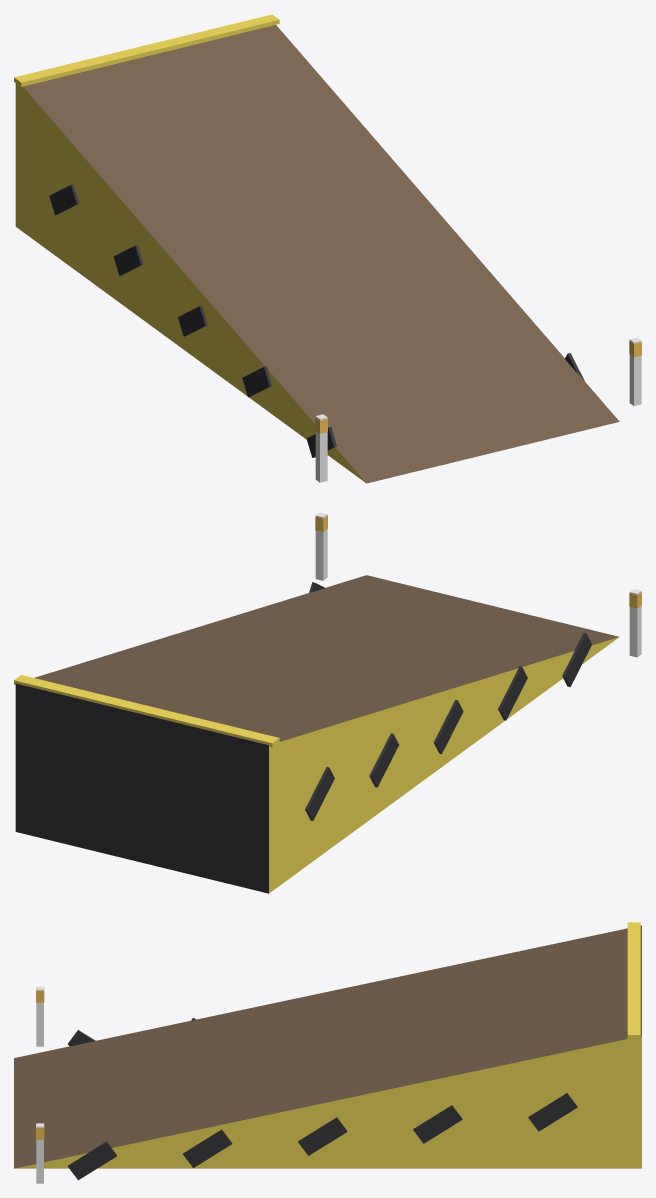
File: jump_ramp.glb
3 renders of one model, top to bottom at view 1: azimuth 30°, elevation 25°; view 2: azimuth 150°, elevation 25°; view 3: azimuth 270°, elevation 25°, orthographic. The views are drawn at different scales.
Visible parts, largest first — view 1: jump_ramp; view 2: jump_ramp; view 3: jump_ramp.
Part boxes in pixels (x1=…): jump_ramp: x1=14, y1=14, x2=641, y2=483; jump_ramp: x1=14, y1=512, x2=641, y2=893; jump_ramp: x1=14, y1=922, x2=641, y2=1183.
Bounding box in the file's own units: 6.36 × 3.06 × 12.
